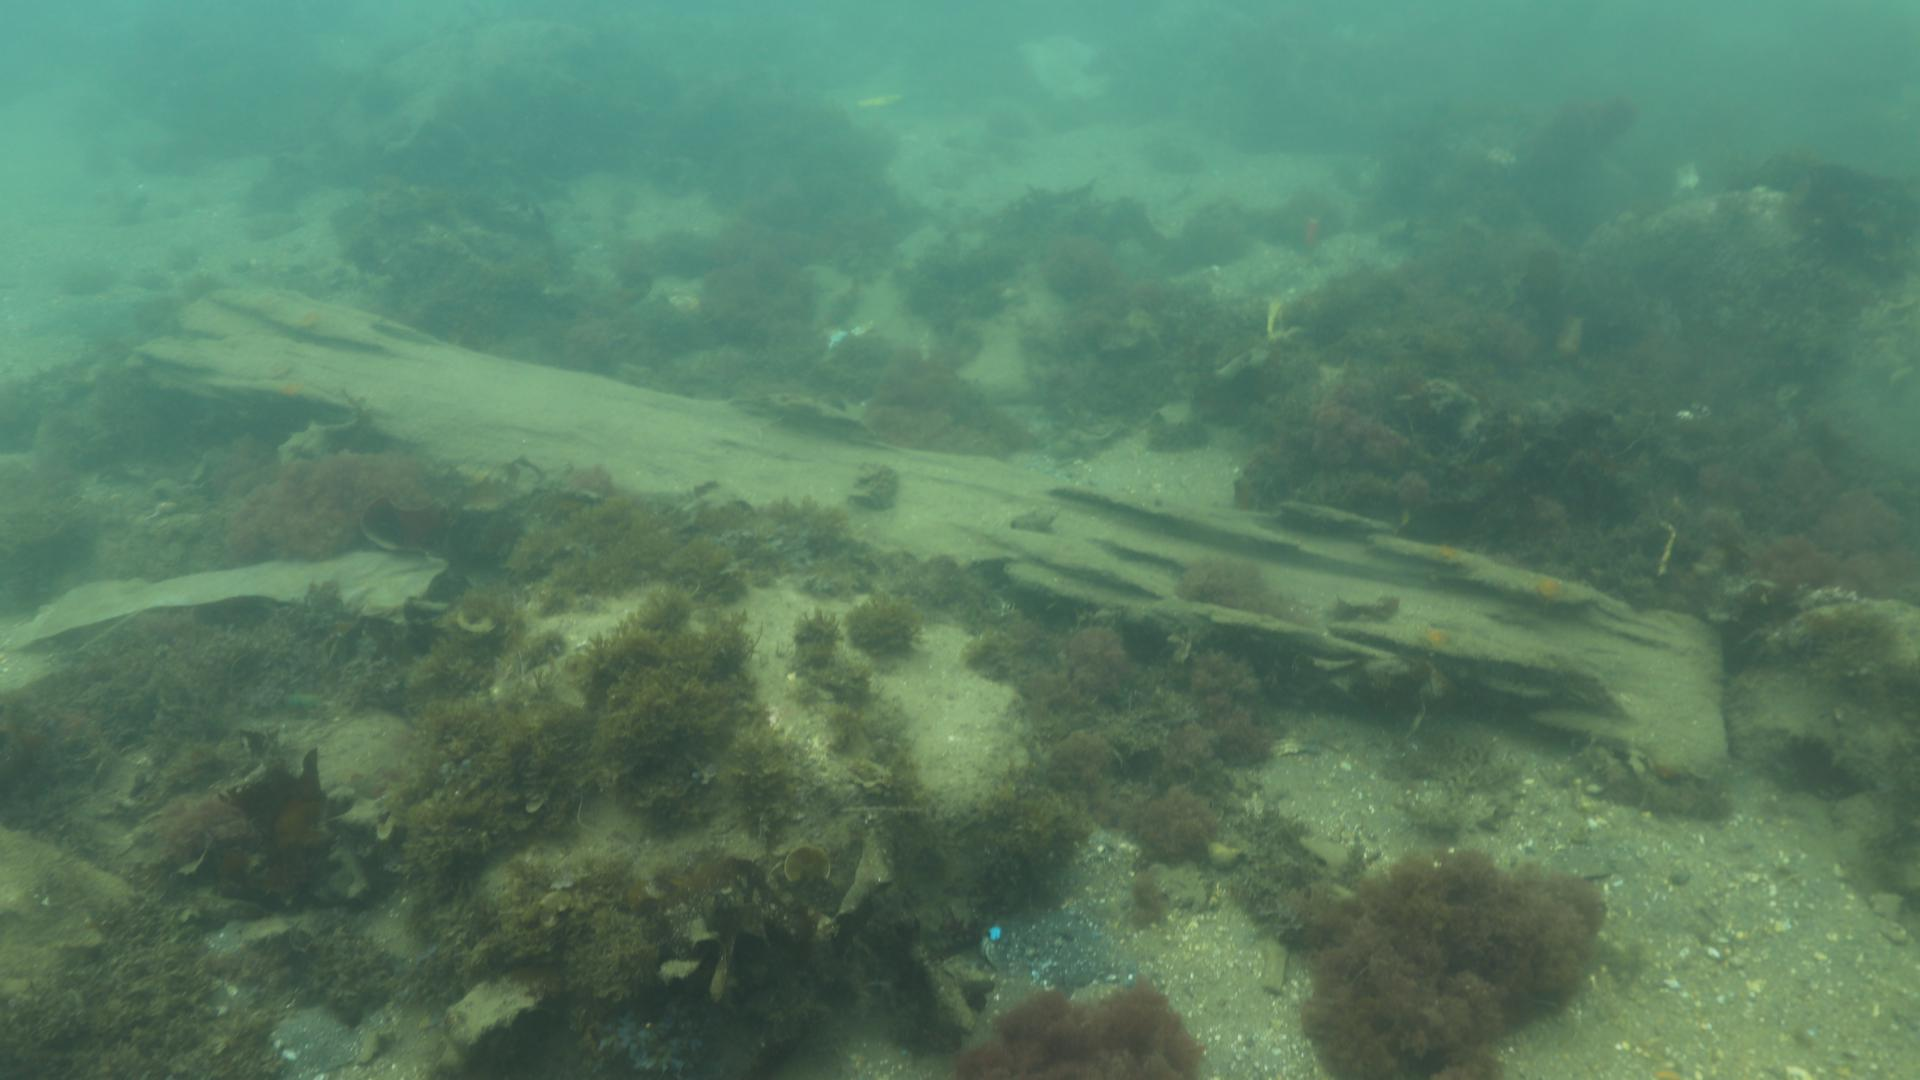wood: (116, 286, 1731, 819)
